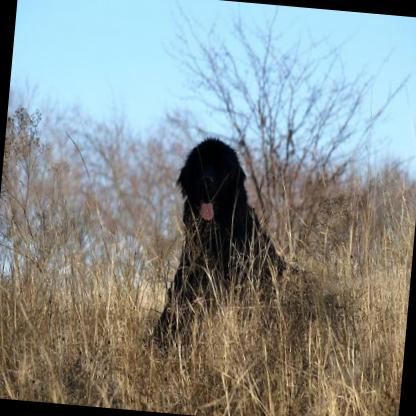Newfoundland: (153, 134, 329, 352)
